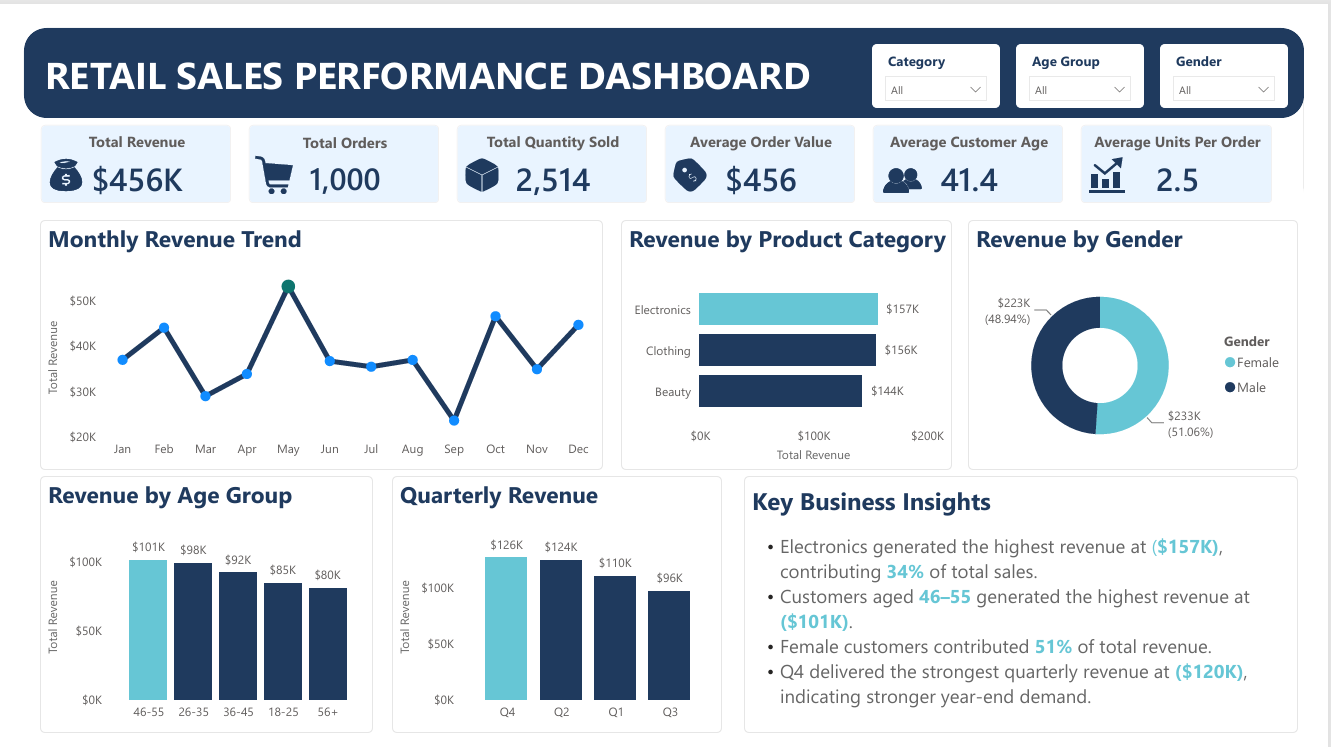

This screenshot's page, from the dashboard's own definition file:
{"tool":"powerbi","page":{"name":"Sales Performance Overview ","canvas":[1280,720],"ordinal":0},"visuals":[{"type":"cardVisual","fields":{"Data":["Retail Sales.Total Revenue"]},"box":[0,80,224,112],"z":0},{"type":"cardVisual","fields":{"Data":["Retail Sales.Total Orders"]},"box":[208,80,224,112],"z":1000},{"type":"cardVisual","fields":{"Data":["Retail Sales.Total Quantity Sold"]},"box":[416,80,224,112],"z":2000},{"type":"cardVisual","fields":{"Data":["Retail Sales.Average Order Value"]},"box":[624,80,224,112],"z":3000},{"type":"cardVisual","fields":{"Data":["Retail Sales.Average Customer Age"]},"box":[832,80,224,112],"z":4000},{"type":"cardVisual","fields":{"Data":["Retail Sales.Average Units Per Order"]},"box":[1040,80,225,112],"z":5000},{"type":"lineChart","title":"Monthly Revenue Trend","fields":{"Category":["Retail Sales.Month"],"Y":["Retail Sales.Total Revenue"]},"box":[16,192,563,250],"z":6000},{"type":"clusteredBarChart","title":"Revenue by Product Category","fields":{"Y":["Retail Sales.Total Revenue"],"Category":["Retail Sales.Product Category"]},"box":[596.5,192,331,250],"z":7000},{"type":"donutChart","title":"Revenue by Gender","fields":{"Category":["Retail Sales.Gender"],"Y":["Retail Sales.Total Revenue"]},"box":[944,192,330,250],"z":8000},{"type":"clusteredColumnChart","title":"Revenue by Age Group","fields":{"Y":["Retail Sales.Total Revenue"],"Category":["Retail Sales.Age Group"]},"box":[16,448,333,257],"z":9000},{"type":"clusteredColumnChart","title":"Quarterly Revenue","fields":{"Category":["Retail Sales.Quarter"],"Y":["Retail Sales.Total Revenue"]},"box":[368,448,330,257],"z":10000},{"type":"shape","box":[0,0,1280,90],"z":11000},{"type":"textbox","box":[16,16,864,80],"z":12000},{"type":"slicer","fields":{"Values":["Retail Sales.Age Group"]},"box":[992,16,128,64],"z":13000},{"type":"slicer","fields":{"Values":["Retail Sales.Gender"]},"box":[1136,16,128,64],"z":14000},{"type":"slicer","fields":{"Values":["Retail Sales.Product Category"]},"box":[848,16,128,64],"z":15000},{"type":"image","box":[0,128,83,38],"z":16000},{"type":"image","box":[208,128,83,38],"z":17000},{"type":"image","box":[416,128,83,38],"z":18000},{"type":"image","box":[848,128,60,49],"z":19000},{"type":"image","box":[1040,128,83,38],"z":20000},{"type":"image","box":[624,128,83,38],"z":21000},{"type":"textbox","box":[720,448,554,257],"z":21001}]}

Visuals, with their boxes in screenshot pixels (x1, y1, x2, y2), scaled from the page's 1280x720 canvas onto the 1331x747 screenshot:
cardVisual - Retail Sales.Total Revenue: [left=0, top=83, right=233, bottom=199]
cardVisual - Retail Sales.Total Orders: [left=216, top=83, right=449, bottom=199]
cardVisual - Retail Sales.Total Quantity Sold: [left=433, top=83, right=666, bottom=199]
cardVisual - Retail Sales.Average Order Value: [left=649, top=83, right=882, bottom=199]
cardVisual - Retail Sales.Average Customer Age: [left=865, top=83, right=1098, bottom=199]
cardVisual - Retail Sales.Average Units Per Order: [left=1081, top=83, right=1315, bottom=199]
"Monthly Revenue Trend" lineChart: [left=17, top=199, right=602, bottom=459]
"Revenue by Product Category" clusteredBarChart: [left=620, top=199, right=964, bottom=459]
"Revenue by Gender" donutChart: [left=982, top=199, right=1325, bottom=459]
"Revenue by Age Group" clusteredColumnChart: [left=17, top=465, right=363, bottom=731]
"Quarterly Revenue" clusteredColumnChart: [left=383, top=465, right=726, bottom=731]
shape: [left=0, top=0, right=1330, bottom=93]
textbox: [left=17, top=17, right=915, bottom=100]
slicer - Retail Sales.Age Group: [left=1032, top=17, right=1165, bottom=83]
slicer - Retail Sales.Gender: [left=1181, top=17, right=1314, bottom=83]
slicer - Retail Sales.Product Category: [left=882, top=17, right=1015, bottom=83]
image: [left=0, top=133, right=86, bottom=172]
image: [left=216, top=133, right=303, bottom=172]
image: [left=433, top=133, right=519, bottom=172]
image: [left=882, top=133, right=944, bottom=184]
image: [left=1081, top=133, right=1168, bottom=172]
image: [left=649, top=133, right=735, bottom=172]
textbox: [left=749, top=465, right=1325, bottom=731]
